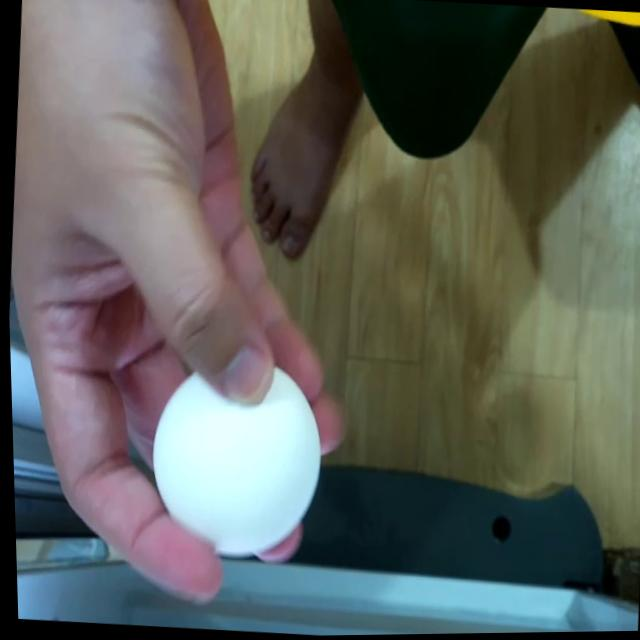egg: (139, 357, 333, 565)
